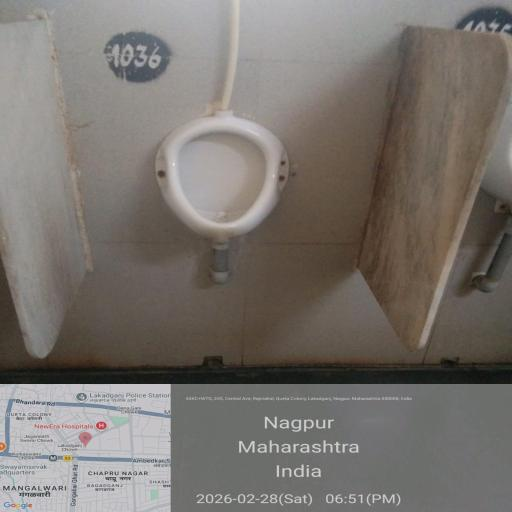clean_floor: (284, 120, 492, 347), (34, 10, 396, 119), (0, 125, 167, 348)
clean_urinal: (162, 120, 271, 254)
partial_dirty_floor: (0, 316, 507, 389)
